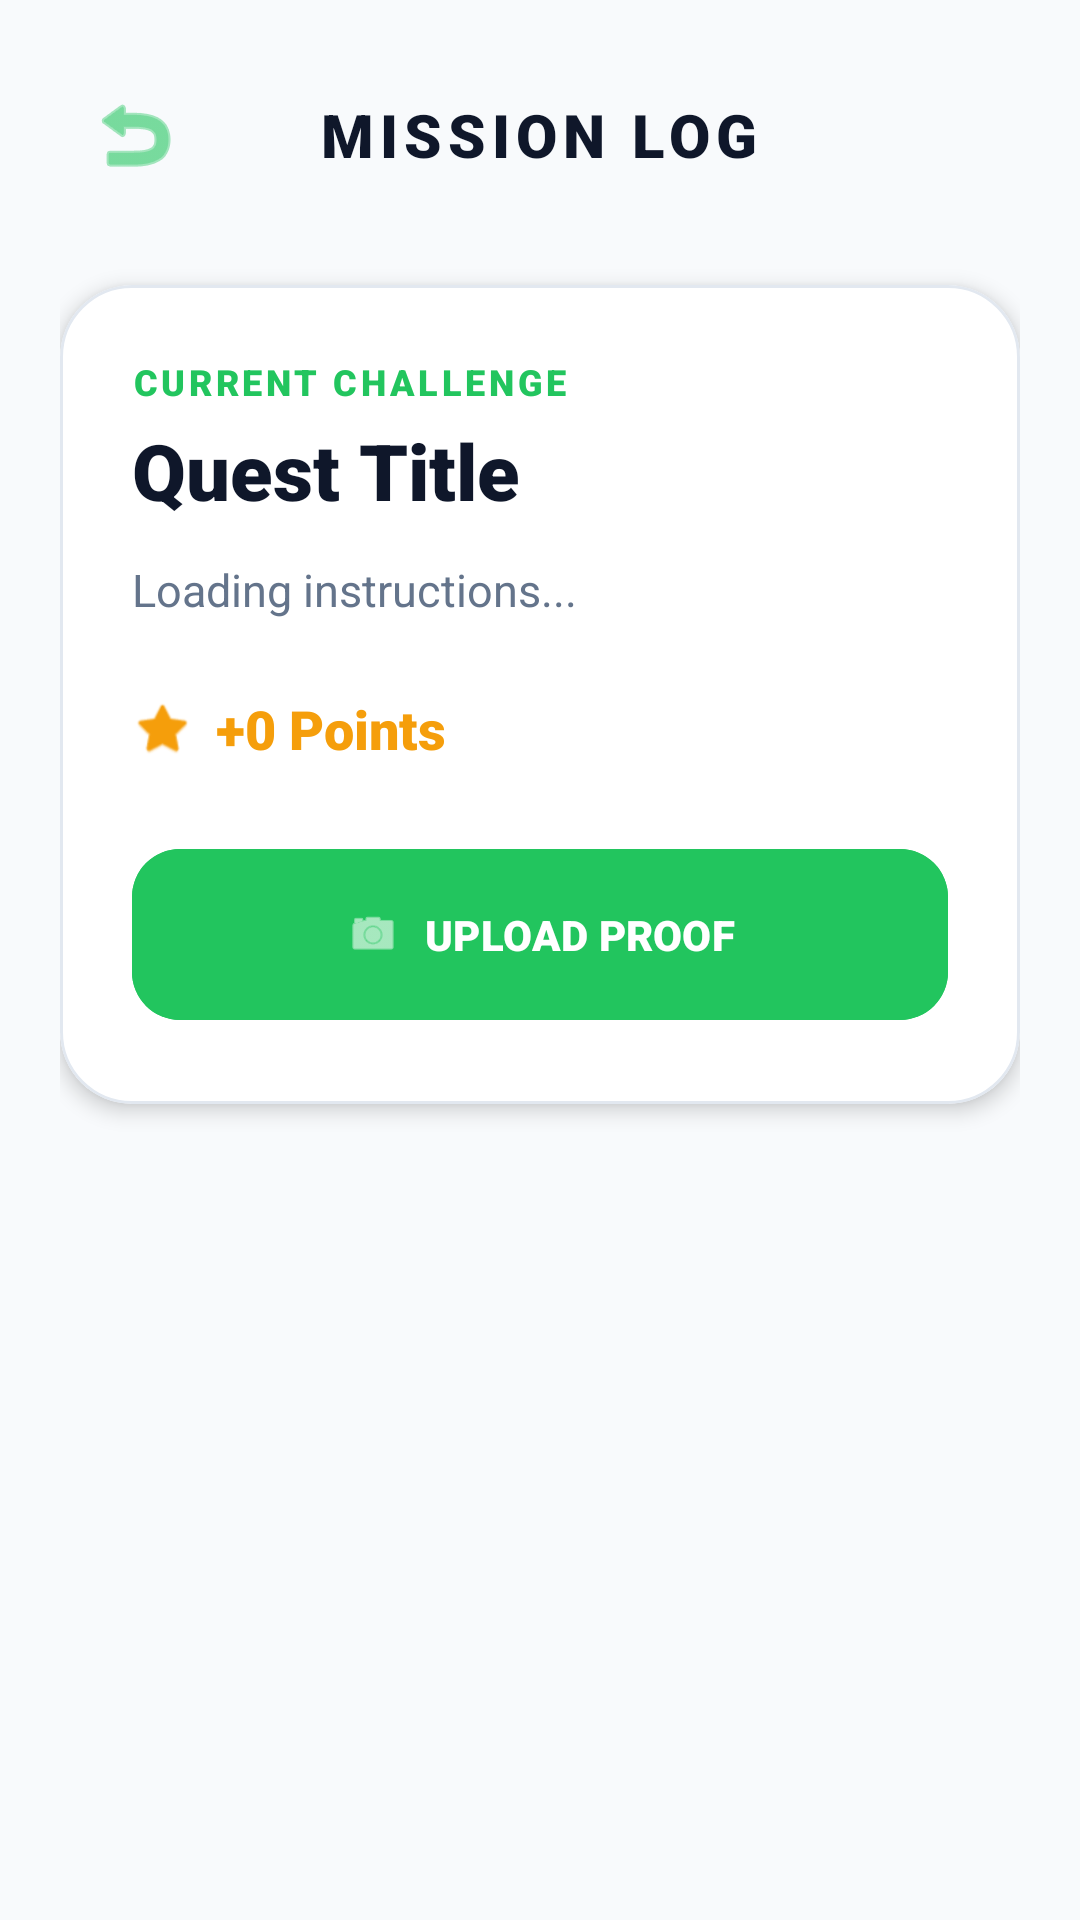

Icon bounding boxes for this 1080 x 1920 phone screenshot, format (x1, y1, x2, y2):
revert: (102, 104, 171, 167)
star on: (137, 704, 188, 753)
